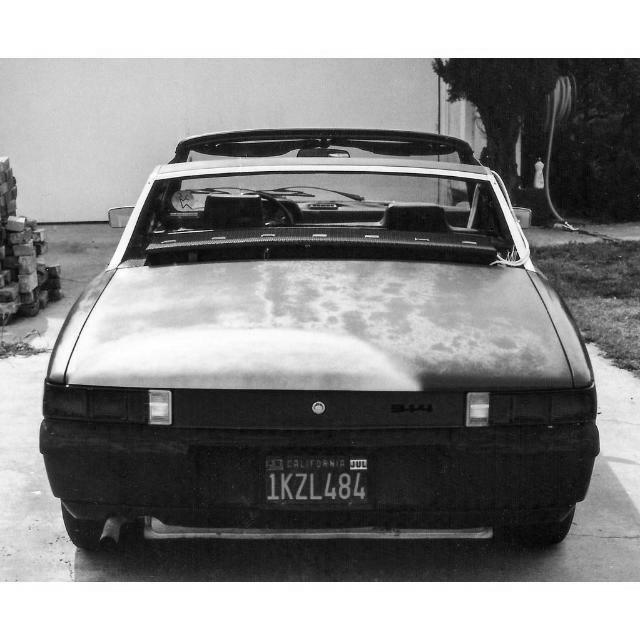bonnet-dent: (100, 267, 581, 395)
